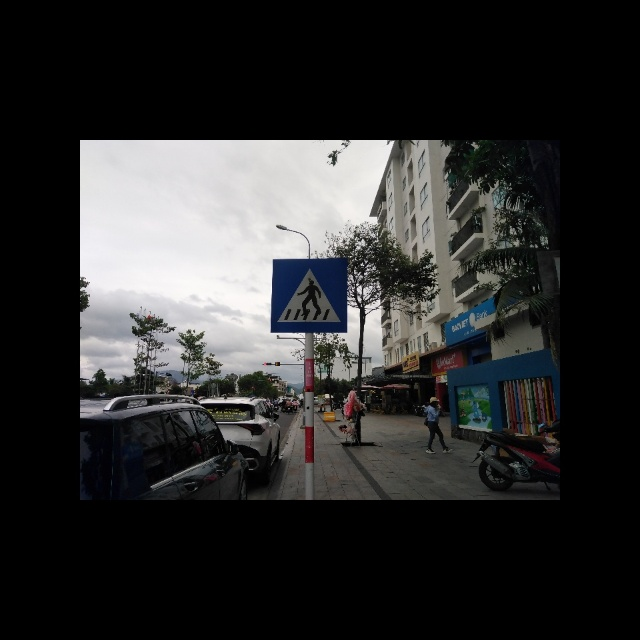Đường dành cho người đi bộ: (270, 257, 348, 333)
